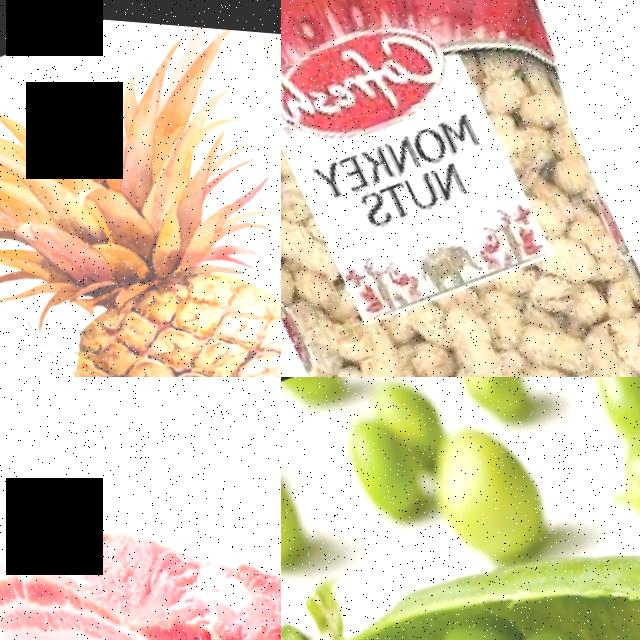peanuts: (431, 290, 511, 377), (508, 300, 596, 377), (539, 220, 601, 286)
peas: (416, 459, 640, 640)
pineapple: (0, 158, 281, 377)
pork belly: (0, 471, 191, 640), (108, 494, 281, 640)
